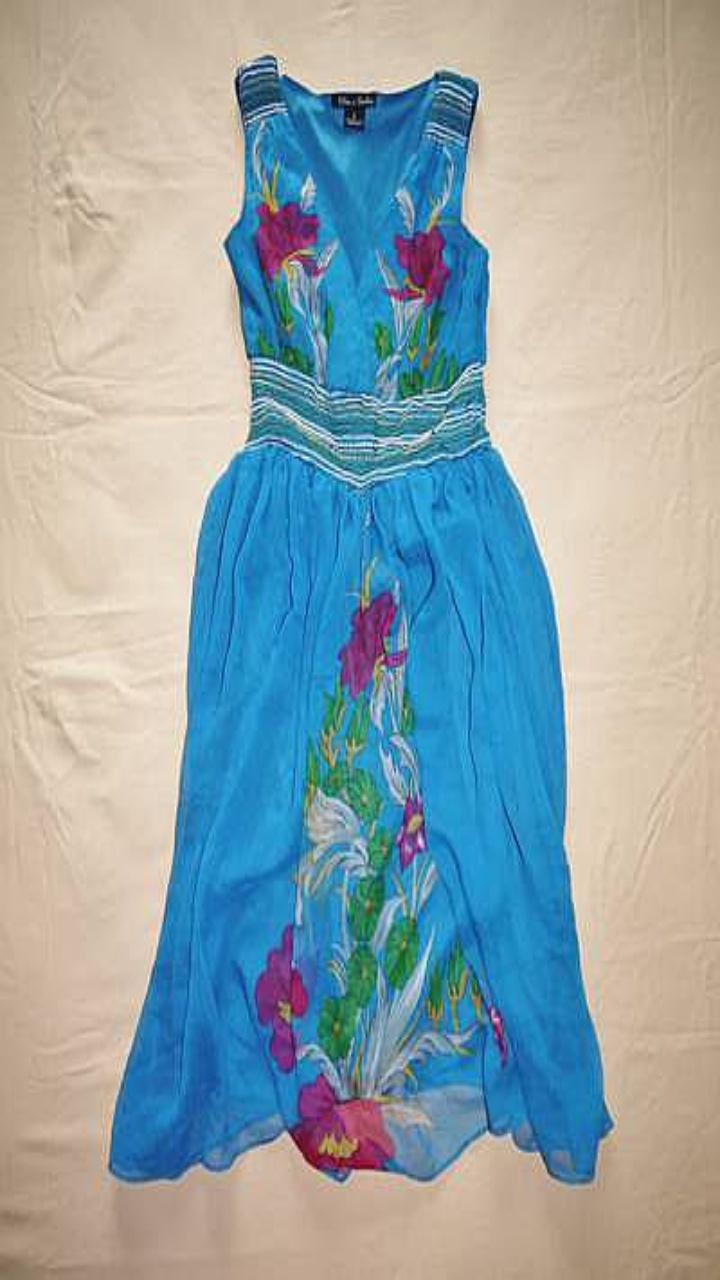Dresses: (109, 54, 612, 1182)
